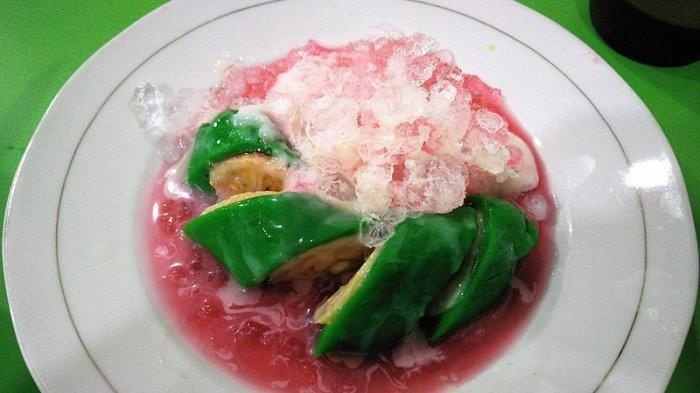es_pisang_ijo: (146, 51, 545, 393)
